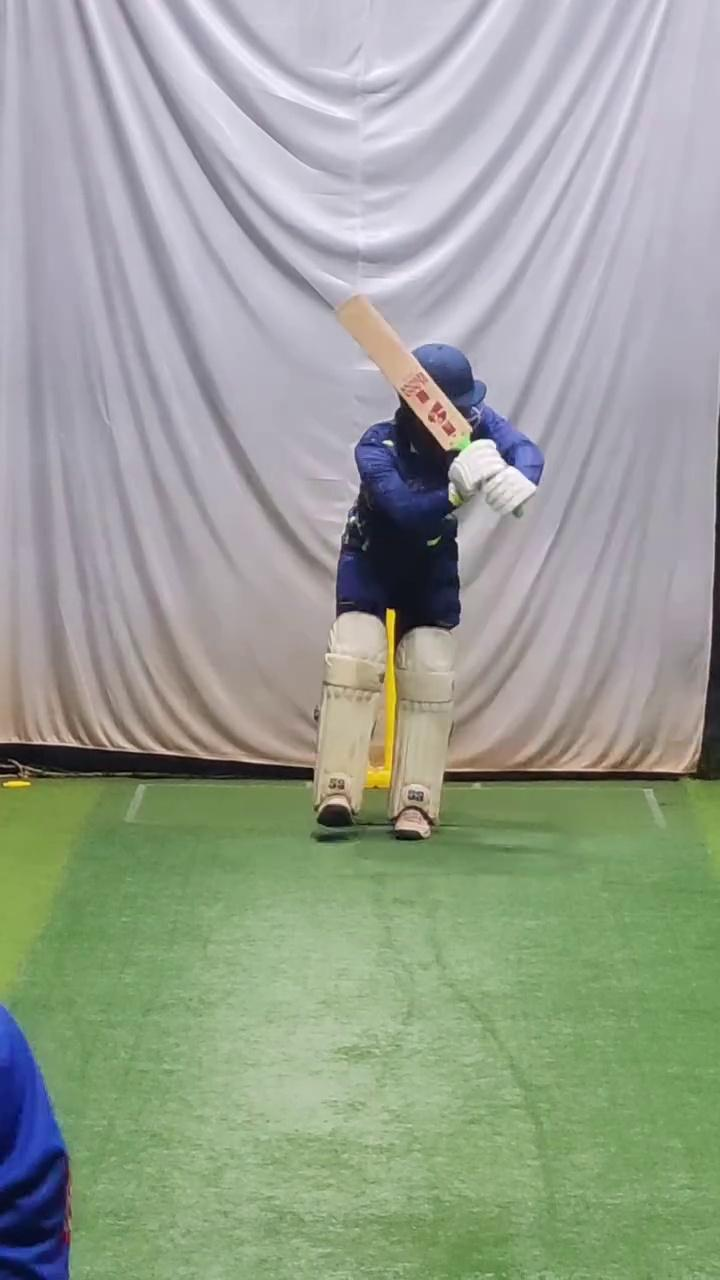bat: (330, 287, 476, 453)
